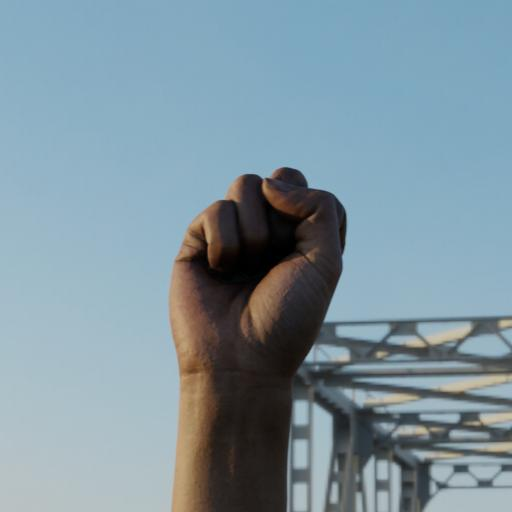S: (149, 158, 355, 396)
